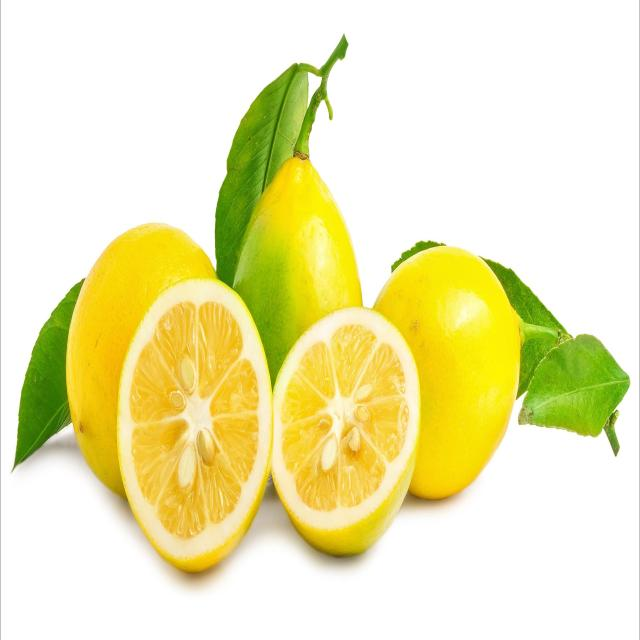lemon: (115, 274, 276, 580), (268, 303, 425, 561)
